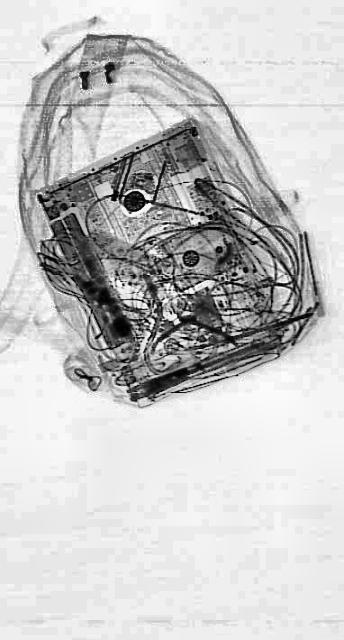Pliers: (148, 306, 236, 356)
